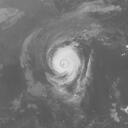cyclone: (47, 45, 87, 82)
